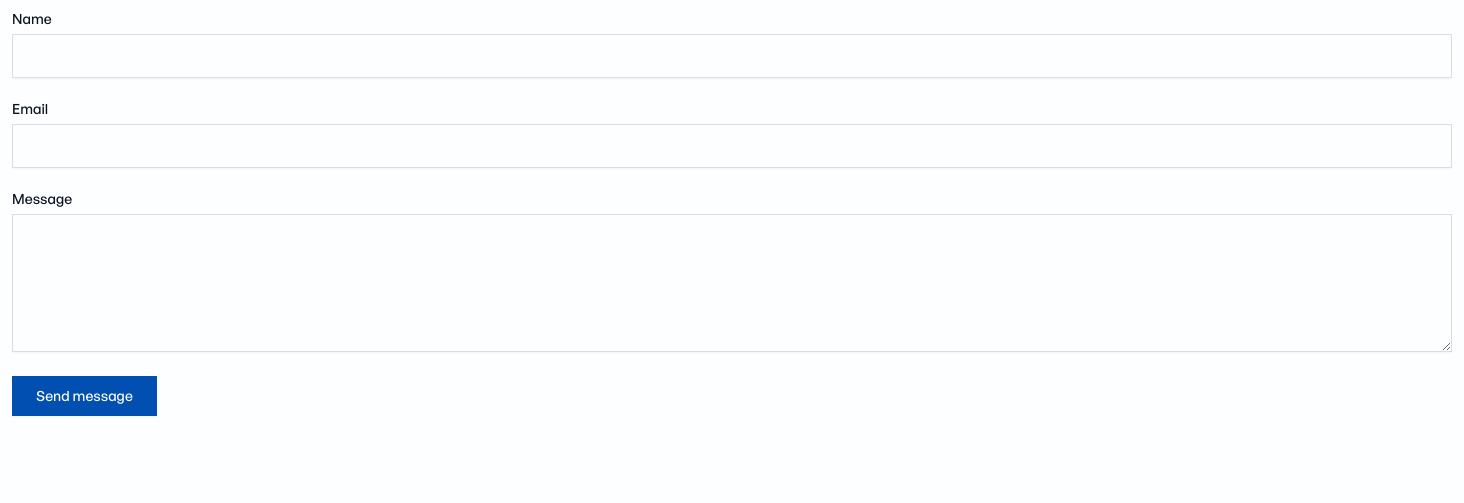
Test: ContactForm › shows the 'Already received' message and does not route when the backend reports a duplicate
Expected: the button "Send message" is shown, x1=12 y1=376 x2=157 y2=416
Type "Ada Lovelace" into the field labelled "Name" at point(732, 56), box x1=12 y1=34 x2=1452 y2=78
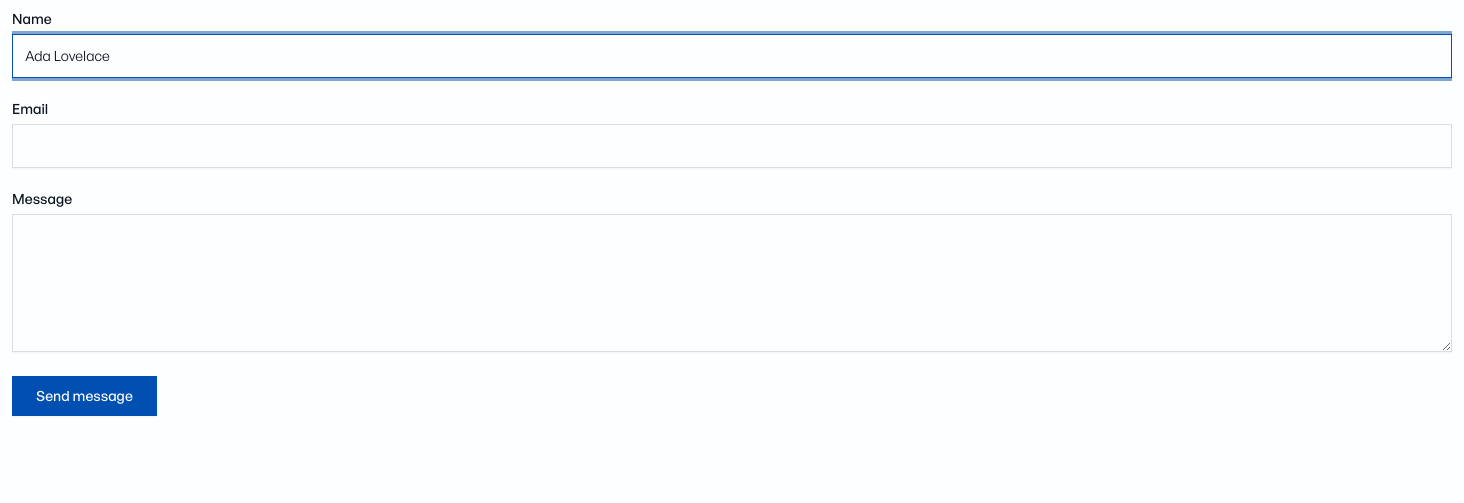
Expected: the button "Send message" is shown, x1=12 y1=376 x2=157 y2=416
Type "ada@example.com" into the field labelled "Email" at point(732, 146), box x1=12 y1=124 x2=1452 y2=168
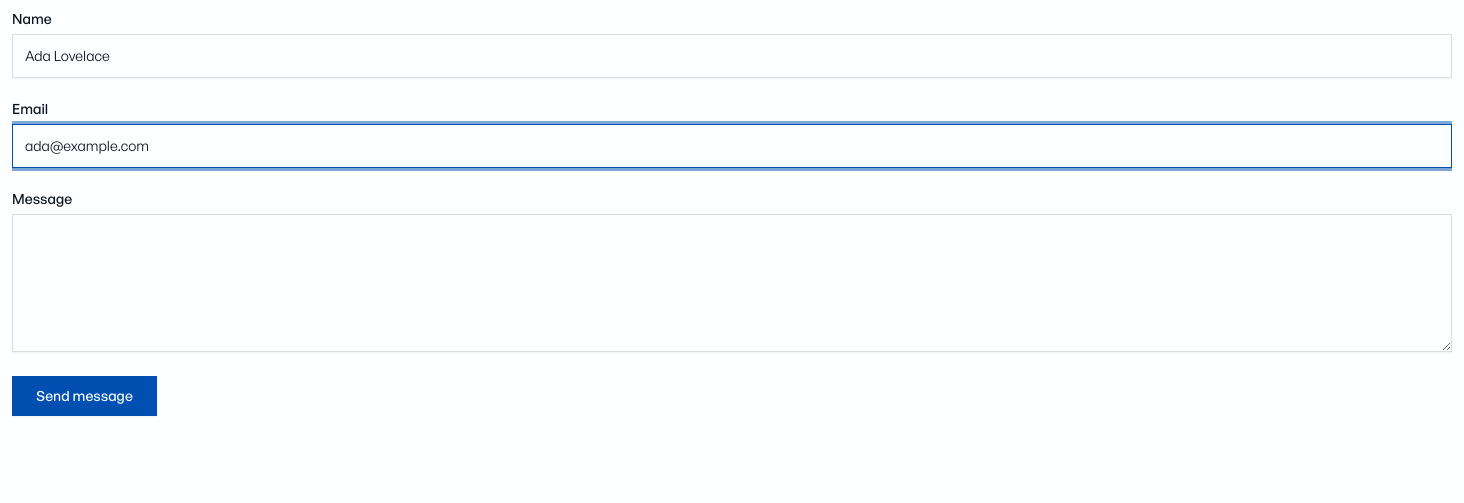
Type "I would like to learn more about your products." into the text box labelled "Message" at point(732, 283), box x1=12 y1=214 x2=1452 y2=352
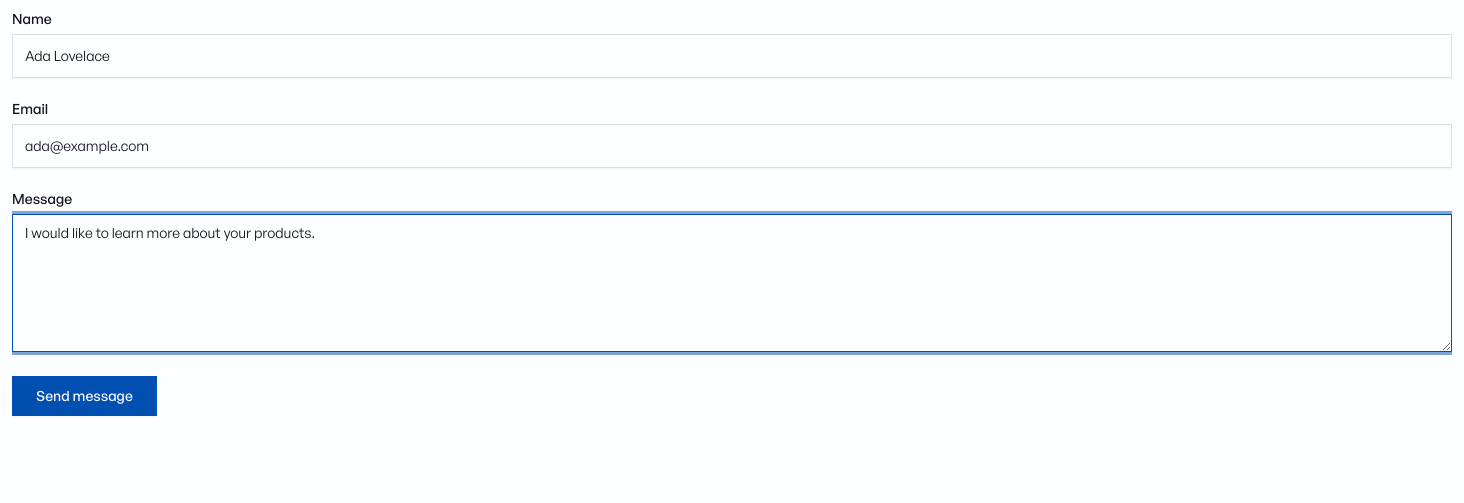
Click the button "Send message" at point(84, 396), box x1=12 y1=376 x2=157 y2=416
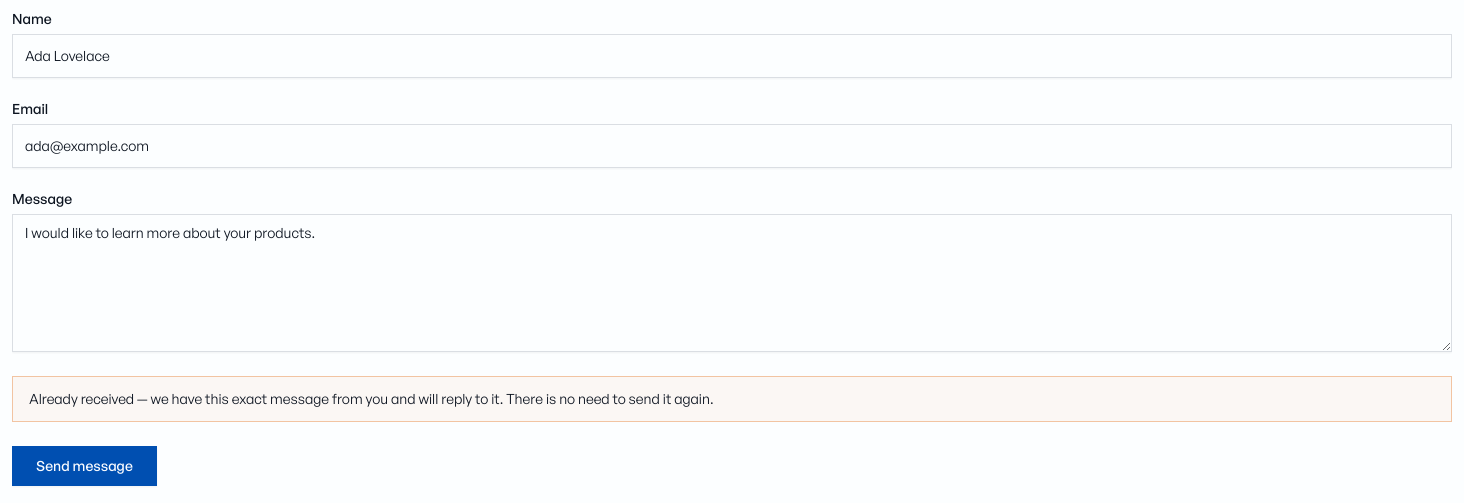
Now the text with test id "contact.already_received_state" is shown, box x1=12 y1=376 x2=1452 y2=422
Now the text "Already received" is shown, box x1=29 y1=390 x2=714 y2=407
